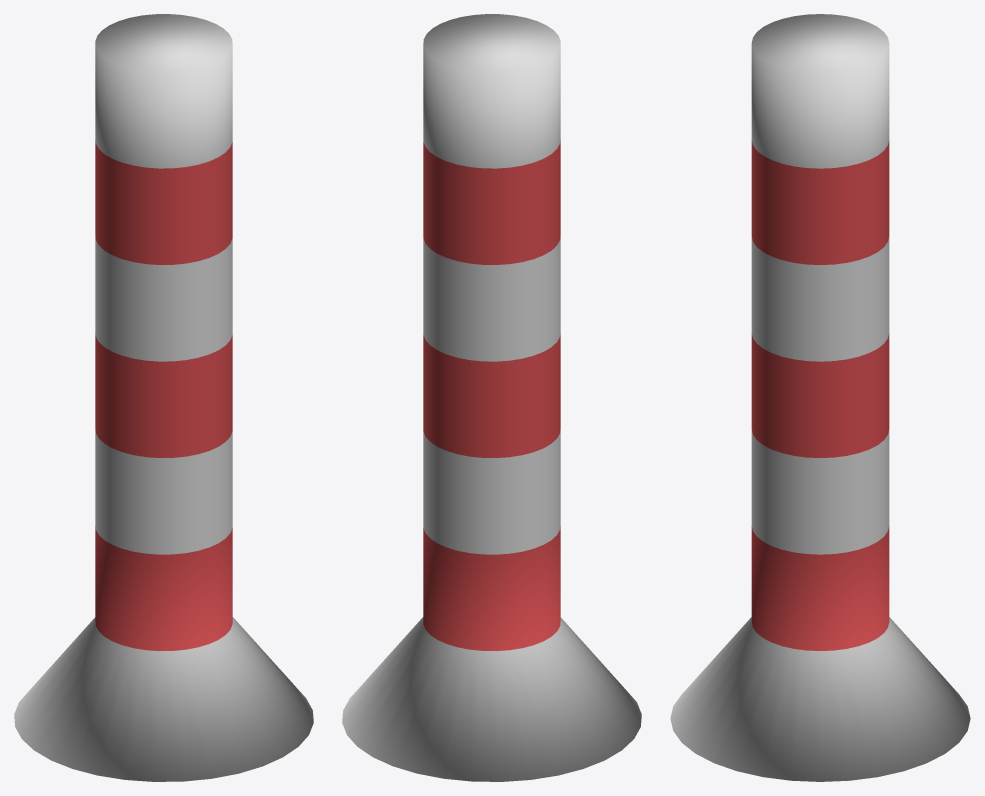
Rendered from Obstacle2.fbx.
3 renders of one model, left to right at view 1: azimuth 30°, elevation 25°; view 2: azimuth 150°, elevation 25°; view 3: azimuth 270°, elevation 25°, orthographic.
Visible parts, largest first — view 1: Obstacle1; view 2: Obstacle1; view 3: Obstacle1.
Part boxes in pixels (x1,y1,x2,y2): Obstacle1: [14, 14, 313, 781]; Obstacle1: [342, 14, 641, 781]; Obstacle1: [670, 14, 970, 781].
Size of the model in its own units: 127 by 315 by 127.
